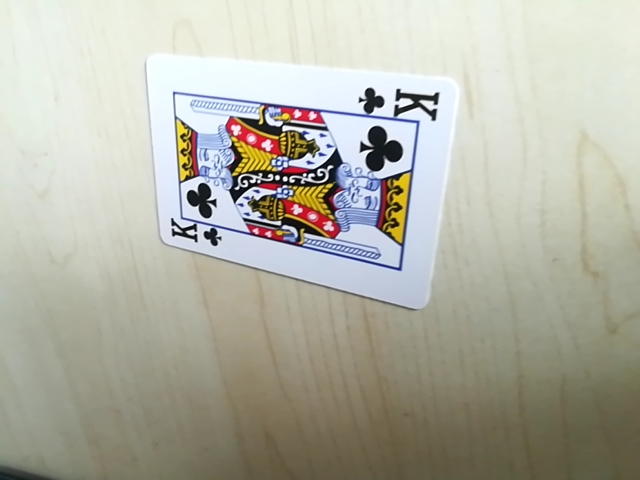mh k: (358, 85, 445, 122), (164, 222, 221, 251)
